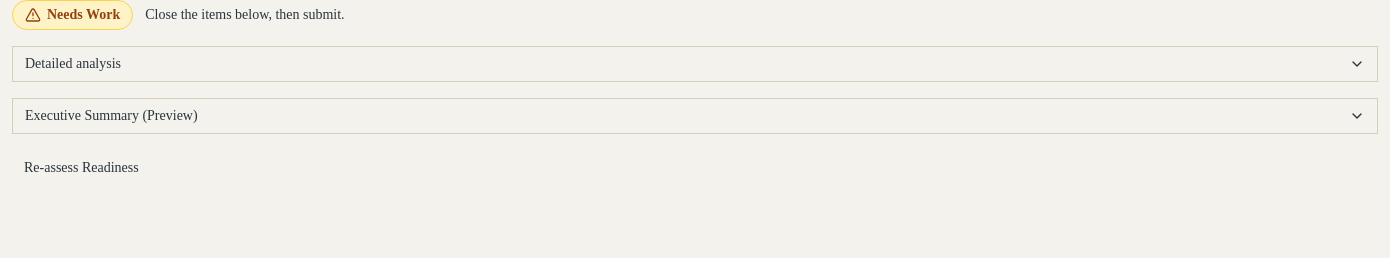
Test: ReadinessResult › keeps the Executive Summary (Preview) disclosure, also closed by default
Expected: the text "An anomaly model would score invoices and route the risky ones to analysts." is not shown
Click the button "Executive Summary (Preview)". click: point(111, 116)
box: [12,98,1378,134]
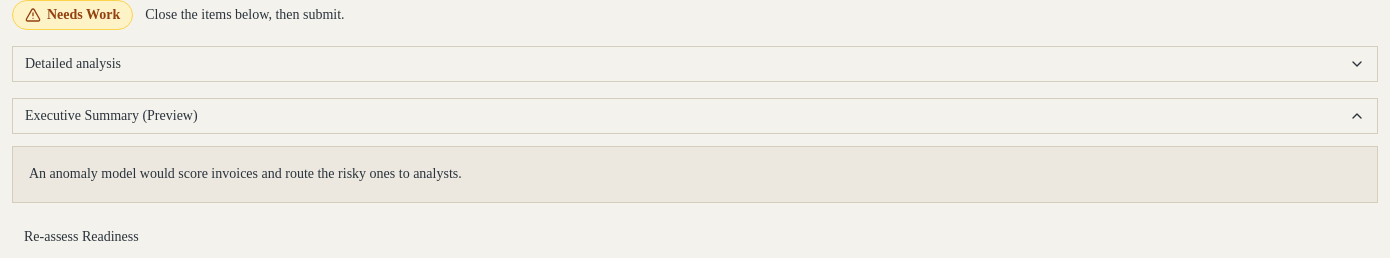
Expected: the text "An anomaly model would score invoices and route the risky ones to analysts." is shown, [12,146,1378,203]
